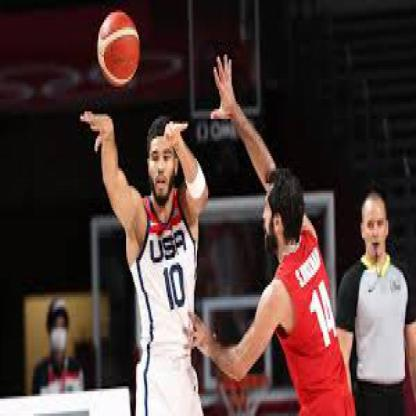basketball: (97, 10, 140, 89)
